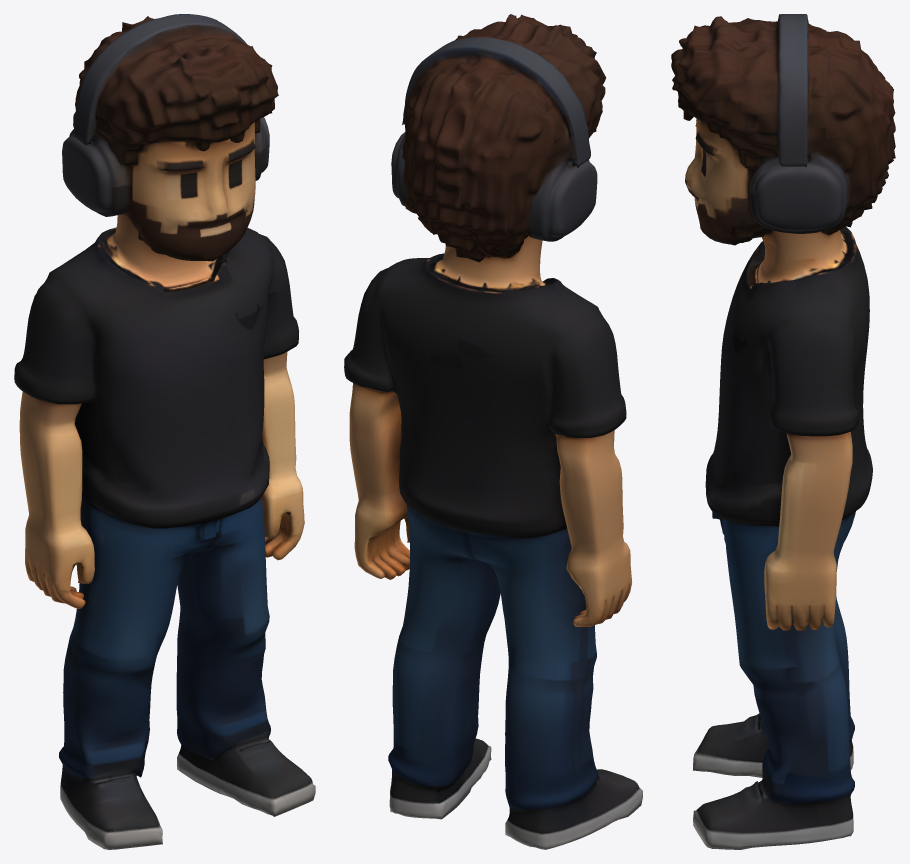
File: convert_this_side-view_2d_pixel_art_character_i.glb
The picture shows the model from 3 angles, left to right: view 1: azimuth 30°, elevation 25°; view 2: azimuth 150°, elevation 25°; view 3: azimuth 270°, elevation 25°; orthographic projection.
Visible parts, largest first — view 1: Object_2; view 2: Object_2; view 3: Object_2.
Boxes of the visible parts, x1=… form: Object_2: x1=14, y1=14, x2=315, y2=849; Object_2: x1=344, y1=14, x2=642, y2=849; Object_2: x1=671, y1=14, x2=895, y2=849.
Size of the model in its own units: 0.6749 by 1.86 by 0.4891.
Materials: 1 (1 with a texture image).
